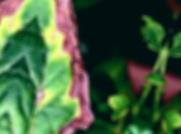Tomato leaf bacterial spot: (0, 0, 137, 134)
